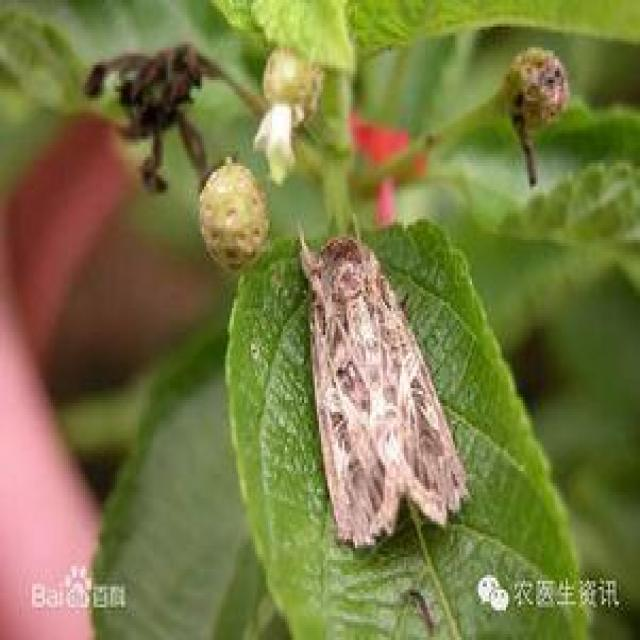BeetArmyWorm-Adult-: (292, 209, 475, 555)
